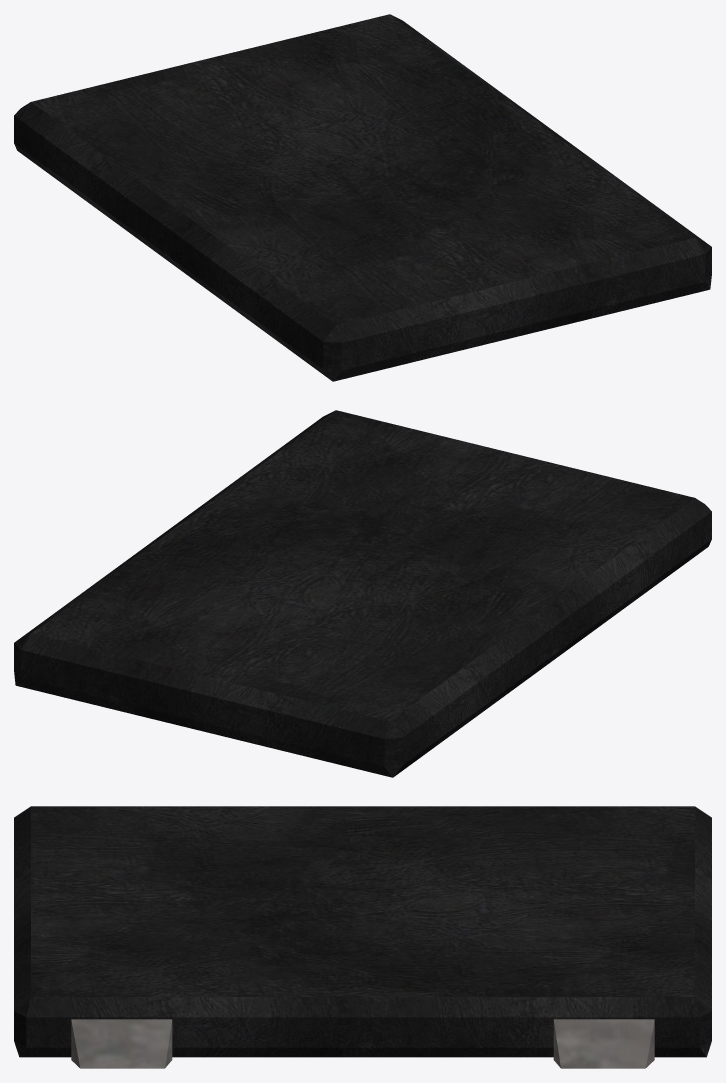
The model's file is suitcase-top3.gltf.
3 renders of one model, top to bottom at view 1: azimuth 30°, elevation 25°; view 2: azimuth 150°, elevation 25°; view 3: azimuth 270°, elevation 25°, orthographic. The views are drawn at different scales.
Visible parts, largest first — view 1: Top; view 2: Top; view 3: Top.
Boxes of the visible parts, x1,y1,x2,y2 form: Top: [14, 14, 711, 381]; Top: [14, 410, 711, 777]; Top: [14, 806, 711, 1068].
Size of the model in its own units: 0.3552 by 0.0426 by 0.4873.
1 material, 1 textured.
